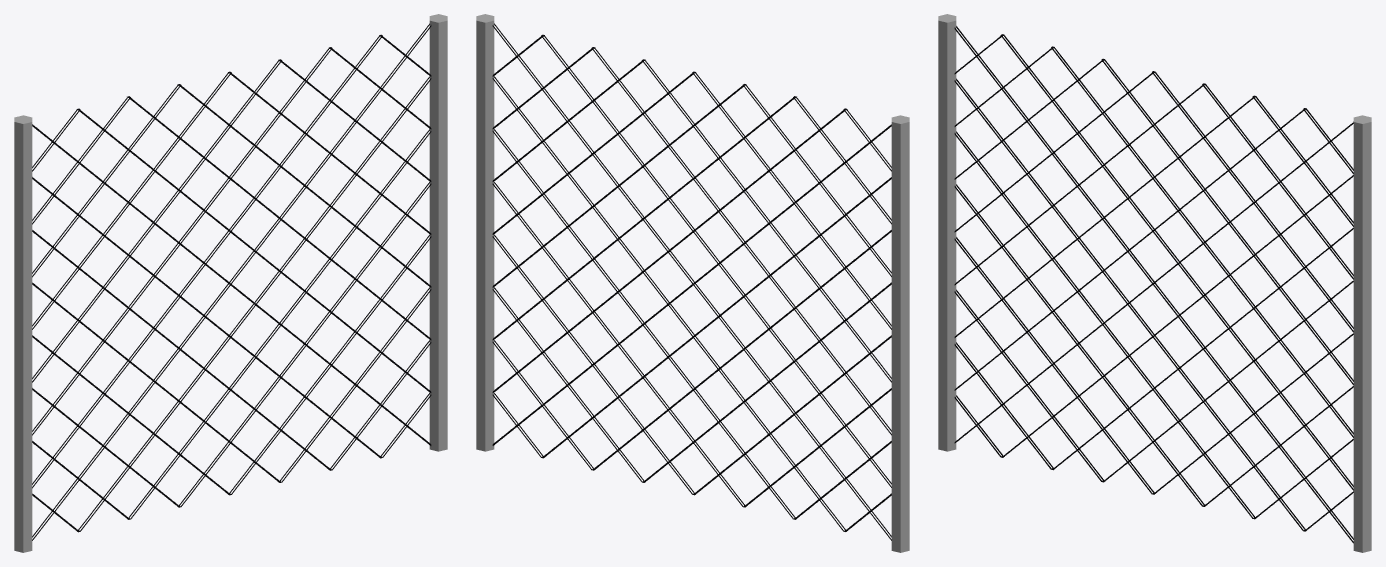
Rendered from Net.fbx.
3 views of the same model, side by side, from view 1: azimuth 30°, elevation 25°; view 2: azimuth 150°, elevation 25°; view 3: azimuth 330°, elevation 25° (orthographic).
Visible parts, largest first — view 1: Net; view 2: Net; view 3: Net.
Part boxes in pixels (bbox=[...]): Net: bbox=[14, 14, 447, 552]; Net: bbox=[476, 14, 909, 552]; Net: bbox=[938, 14, 1371, 552].
Bounding box in the file's own units: 21.36 × 20.21 × 0.7686.
2 materials, 1 textured.
